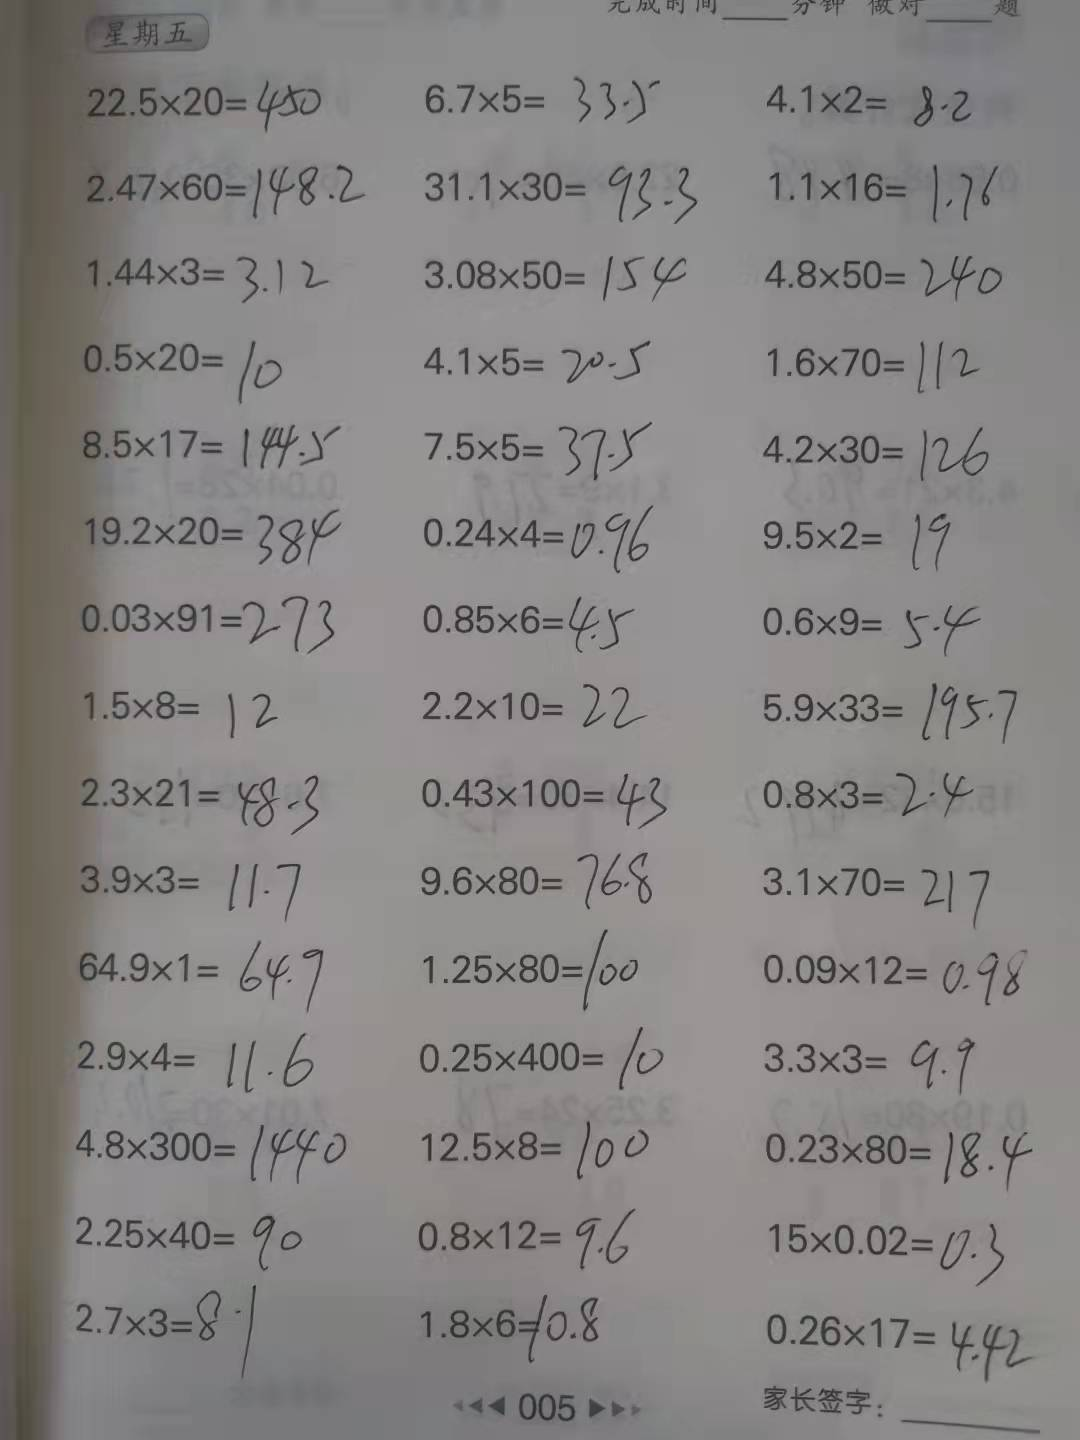equation: (756, 1116, 1036, 1195), (761, 1303, 1036, 1383), (66, 1281, 271, 1384), (70, 155, 376, 225), (71, 1116, 353, 1189), (74, 588, 345, 664), (77, 940, 335, 1019), (766, 1209, 1009, 1293), (417, 156, 704, 227), (756, 945, 1040, 1015), (81, 498, 349, 571), (419, 927, 646, 1014), (78, 765, 327, 842), (751, 850, 999, 927), (415, 1022, 669, 1096), (417, 503, 666, 579), (763, 153, 1009, 228), (79, 70, 334, 142), (414, 847, 668, 917), (756, 679, 1022, 745), (411, 1201, 642, 1276), (71, 329, 293, 407), (73, 1030, 326, 1096), (75, 855, 310, 926), (410, 770, 673, 833), (423, 65, 668, 133), (407, 417, 659, 482), (81, 242, 338, 304), (424, 1117, 660, 1185), (70, 1209, 305, 1277), (754, 500, 959, 578), (756, 67, 974, 139), (75, 420, 349, 477), (416, 590, 640, 660), (415, 251, 697, 306), (761, 245, 1011, 307), (756, 330, 987, 397), (752, 759, 978, 825), (408, 1291, 611, 1364), (763, 1031, 980, 1098), (757, 420, 999, 478), (757, 593, 982, 655), (414, 676, 655, 732), (419, 332, 653, 388), (78, 681, 282, 742)
